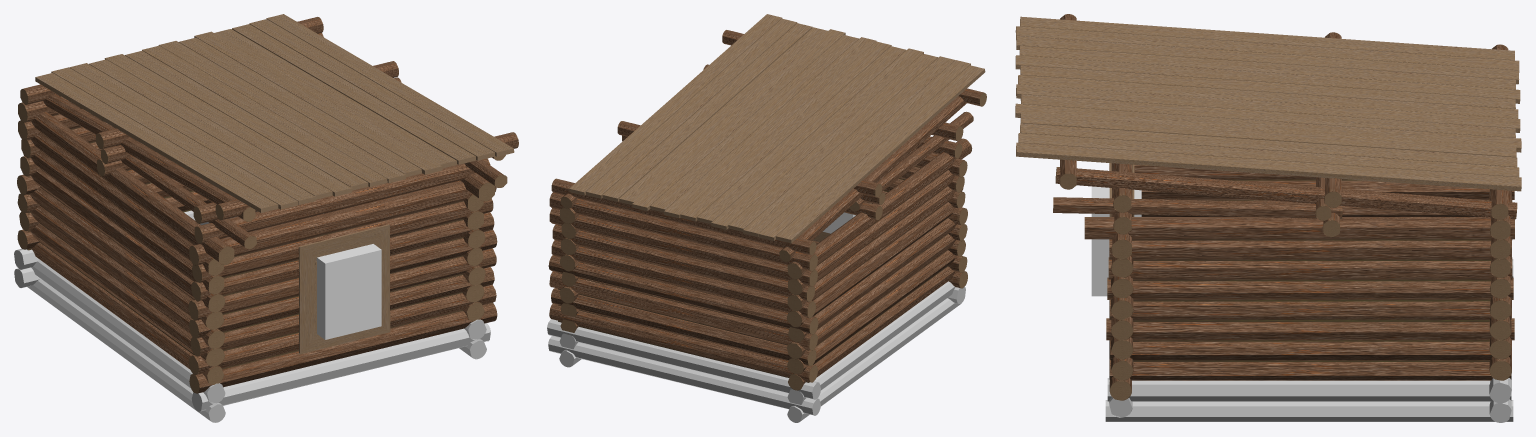
File: kuznya_LOD2.fbx
3 views of the same model, side by side, from view 1: azimuth 30°, elevation 25°; view 2: azimuth 150°, elevation 25°; view 3: azimuth 270°, elevation 25° (orthographic). The views are drawn at different scales.
Visible parts, largest first — view 1: Куб, Цилиндр.012, Цилиндр.017, Цилиндр.033, Куб.032, Цилиндр.075, Цилиндр.013, Куб.043, Куб.045, Куб.044, Куб.041, Куб.033 (+39 smaller); view 2: Куб.032, Цилиндр.001, Цилиндр.006, Цилиндр.027, Цилиндр.045, Цилиндр.042, Цилиндр.044, Цилиндр.046, Цилиндр.047, Цилиндр.048, Цилиндр.043, Куб.043 (+28 smaller); view 3: Цилиндр.068, Цилиндр.005, Цилиндр.002, Куб.045, Цилиндр.067, Цилиндр.019, Цилиндр.050, Цилиндр.051, Цилиндр.053, Цилиндр.054, Цилиндр.020, Цилиндр.052 (+37 smaller).
Boxes of the visible parts, box(x1,y1,x2,y2) form: Куб: box(316, 244, 381, 339); Цилиндр.012: box(189, 180, 496, 265); Цилиндр.017: box(191, 323, 490, 411); Цилиндр.033: box(189, 302, 497, 393); Куб.032: box(35, 73, 278, 212); Цилиндр.075: box(31, 112, 234, 265); Цилиндр.013: box(194, 158, 490, 243); Куб.043: box(232, 24, 475, 164); Куб.045: box(266, 14, 514, 156); Куб.044: box(249, 19, 494, 160); Куб.041: box(194, 31, 442, 174); Куб.033: box(51, 67, 298, 209); Куб.032: box(776, 65, 985, 243); Цилиндр.001: box(548, 336, 820, 415); Цилиндр.006: box(547, 319, 820, 399); Цилиндр.027: box(549, 192, 817, 271); Цилиндр.045: box(548, 255, 818, 334); Цилиндр.042: box(549, 303, 817, 382); Цилиндр.044: box(549, 271, 817, 350); Цилиндр.046: box(551, 240, 815, 318); Цилиндр.047: box(552, 224, 814, 301); Цилиндр.048: box(549, 208, 817, 286); Цилиндр.043: box(551, 288, 816, 366); Куб.043: box(602, 23, 812, 201); Цилиндр.068: box(1084, 217, 1514, 239); Цилиндр.005: box(1107, 378, 1511, 401); Цилиндр.002: box(1105, 400, 1513, 421); Куб.045: box(1016, 142, 1521, 191); Цилиндр.067: box(1109, 239, 1511, 259); Цилиндр.019: box(1055, 167, 1517, 219); Цилиндр.050: box(1110, 340, 1510, 360); Цилиндр.051: box(1106, 318, 1514, 340); Цилиндр.053: box(1107, 277, 1513, 299); Цилиндр.054: box(1108, 257, 1512, 279); Цилиндр.020: box(1109, 359, 1511, 380); Цилиндр.052: box(1109, 300, 1511, 319).
Bounding box in the file's own units: 3480 × 2640 × 4545.
